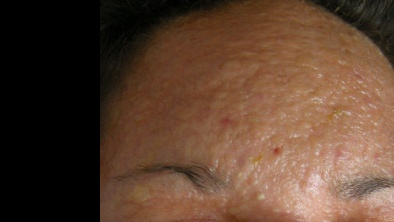SJS-TEN: (131, 9, 394, 222)
